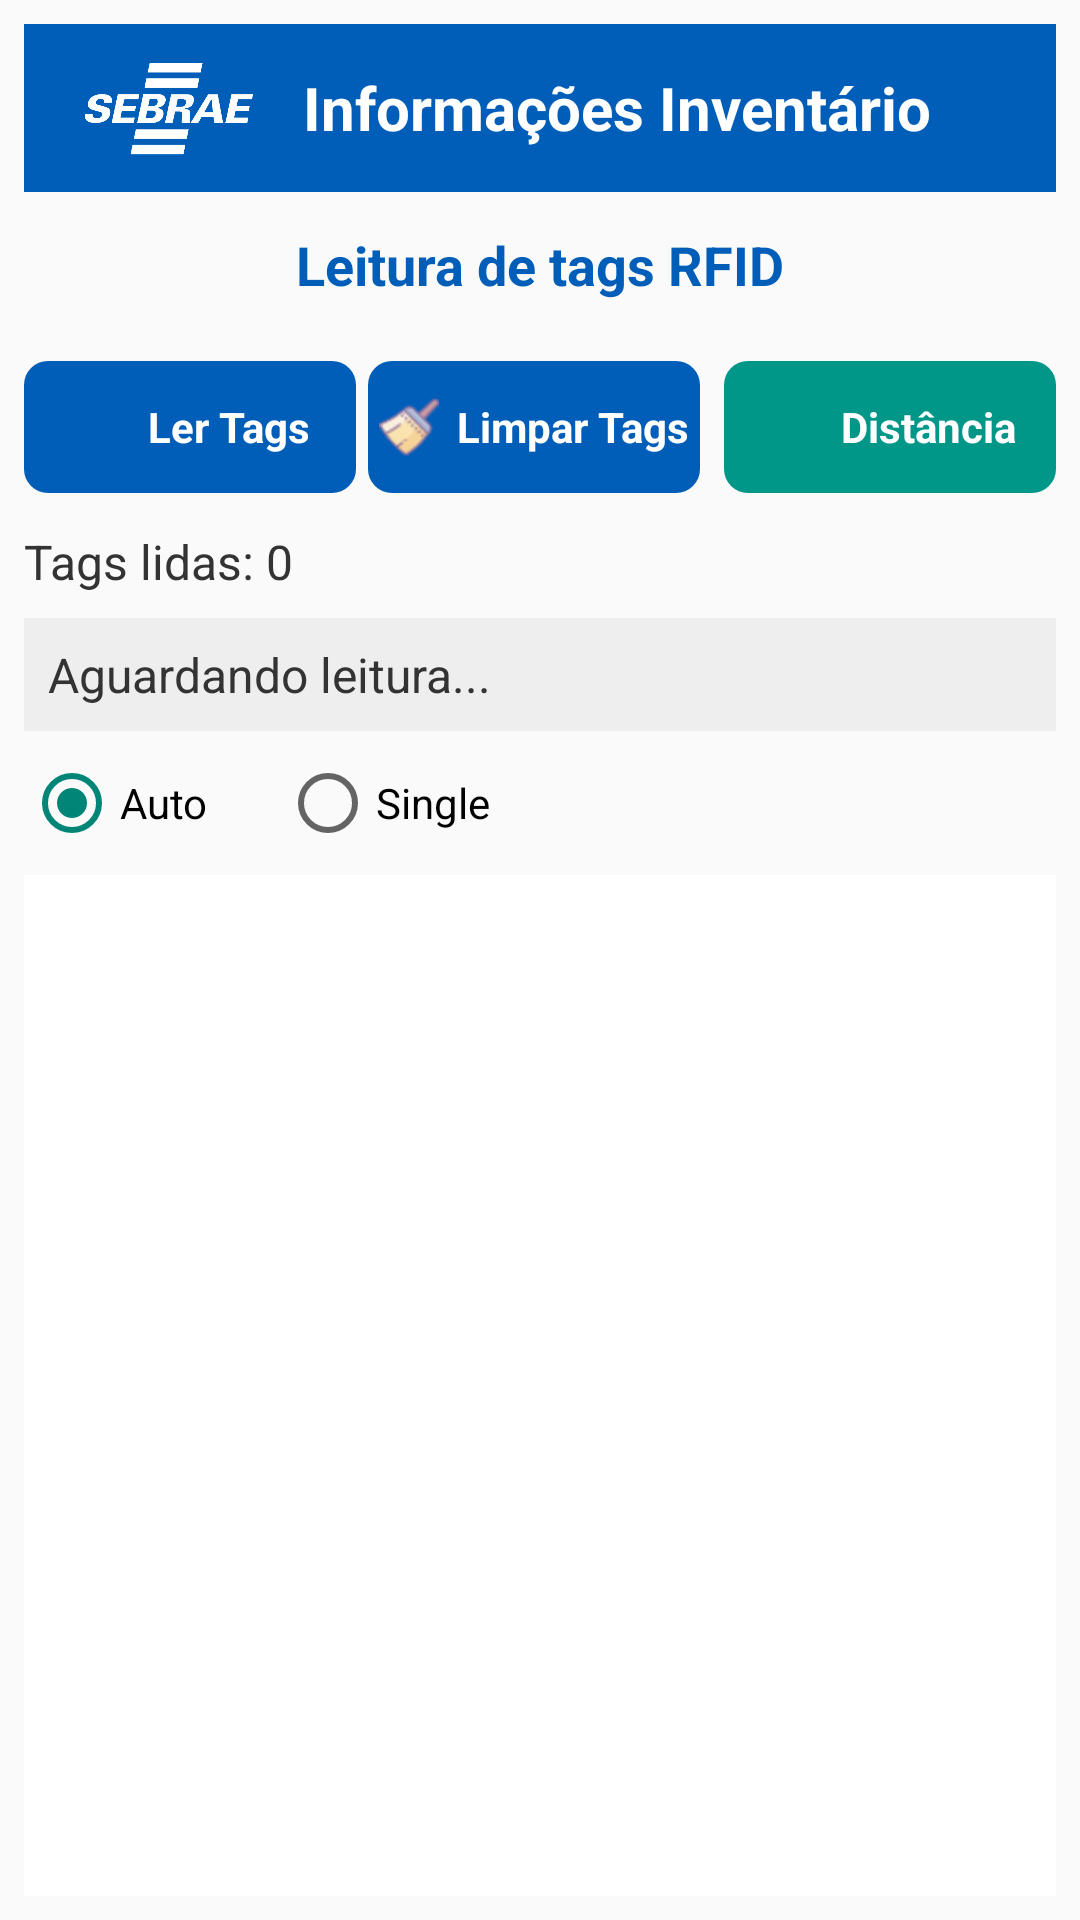

Icons on this 1080*1920 Android screen, each with its box as [x1, y1, x2, y2]:
clean: [379, 398, 439, 456]
